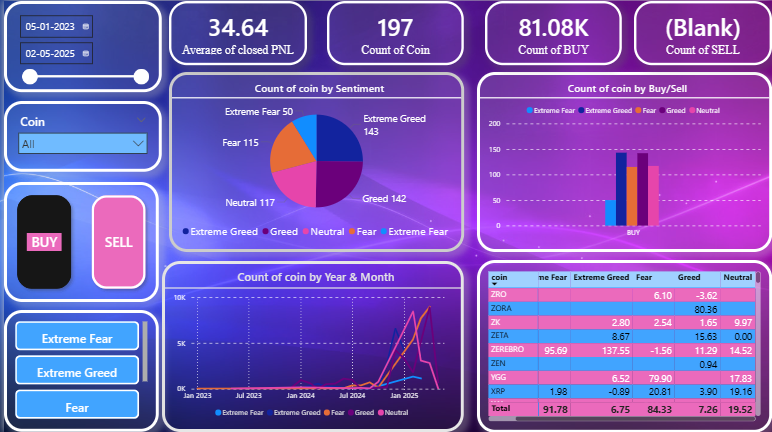

The dashboard page shown, as its layout file describes it:
{"tool":"powerbi","page":{"name":"Page 1","canvas":[1280,720],"ordinal":0},"visuals":[{"type":"pieChart","fields":{"Category":["clean_trader_sentiment (1).classification"],"Y":["Count(clean_trader_sentiment (1).coin)"]},"box":[275,118.3,491.7,300],"z":3},{"type":"lineChart","fields":{"Series":["clean_trader_sentiment (1).classification"],"Y":["CountNonNull(clean_trader_sentiment (1).coin)"],"Category":["clean_trader_sentiment (1).date.Variation.Date Hierarchy.Year","clean_trader_sentiment (1).date.Variation.Date Hierarchy.Month"]},"box":[263.3,433.3,503.3,285],"z":5},{"type":"clusteredColumnChart","fields":{"Category":["clean_trader_sentiment (1).side"],"Series":["clean_trader_sentiment (1).classification"],"Y":["Count(clean_trader_sentiment (1).coin)"]},"box":[788.3,118.3,491.7,300],"z":6},{"type":"pivotTable","fields":{"Rows":["clean_trader_sentiment (1).coin"],"Columns":["clean_trader_sentiment (1).classification"],"Values":["Avg(clean_trader_sentiment (1).closed pnl)"]},"box":[788.3,431.7,491.7,288.3],"z":7},{"type":"slicer","fields":{"Values":["clean_trader_sentiment (1).date"]},"box":[0,0,263.3,151.7],"z":8},{"type":"slicer","fields":{"Values":["clean_trader_sentiment (1).coin"]},"box":[0,166.7,263.3,118.3],"z":9},{"type":"advancedSlicerVisual","fields":{"Values":["clean_trader_sentiment (1).side"]},"box":[0,301.7,258.3,200],"z":10},{"type":"advancedSlicerVisual","fields":{"Values":["clean_trader_sentiment (1).classification"]},"box":[0,515,258.3,203.3],"z":11},{"type":"card","title":"yum","fields":{"Values":["Avg(clean_trader_sentiment (1).closed pnl)"]},"box":[275,0,230,106.7],"z":12},{"type":"card","title":"yum","fields":{"Values":["Count(clean_trader_sentiment (1).coin)"]},"box":[538.3,0,228.3,106.7],"z":13},{"type":"card","title":"yum","fields":{"Values":["CountNonNull(clean_trader_sentiment (1).side)"]},"box":[801.7,0,228.3,106.7],"z":14},{"type":"card","title":"yum","fields":{"Values":["CountNonNull(clean_trader_sentiment (1).side)"]},"box":[1050,0,230,106.7],"z":15}]}

Visuals, with their boxes in screenshot pixels (x1, y1, x2, y2), scaled from the page's 1280x720 canvas onto the 772x432 screenshot:
pieChart - clean_trader_sentiment (1).classification x Count(clean_trader_sentiment (1).coin): BBox(166, 71, 462, 251)
lineChart - clean_trader_sentiment (1).classification x CountNonNull(clean_trader_sentiment (1).coin): BBox(159, 260, 462, 431)
clusteredColumnChart - clean_trader_sentiment (1).side x clean_trader_sentiment (1).classification: BBox(475, 71, 771, 251)
pivotTable - clean_trader_sentiment (1).coin x clean_trader_sentiment (1).classification: BBox(475, 259, 771, 431)
slicer - clean_trader_sentiment (1).date: BBox(0, 0, 159, 91)
slicer - clean_trader_sentiment (1).coin: BBox(0, 100, 159, 171)
advancedSlicerVisual - clean_trader_sentiment (1).side: BBox(0, 181, 156, 301)
advancedSlicerVisual - clean_trader_sentiment (1).classification: BBox(0, 309, 156, 431)
"yum" card: BBox(166, 0, 305, 64)
"yum" card: BBox(325, 0, 462, 64)
"yum" card: BBox(484, 0, 621, 64)
"yum" card: BBox(633, 0, 771, 64)
